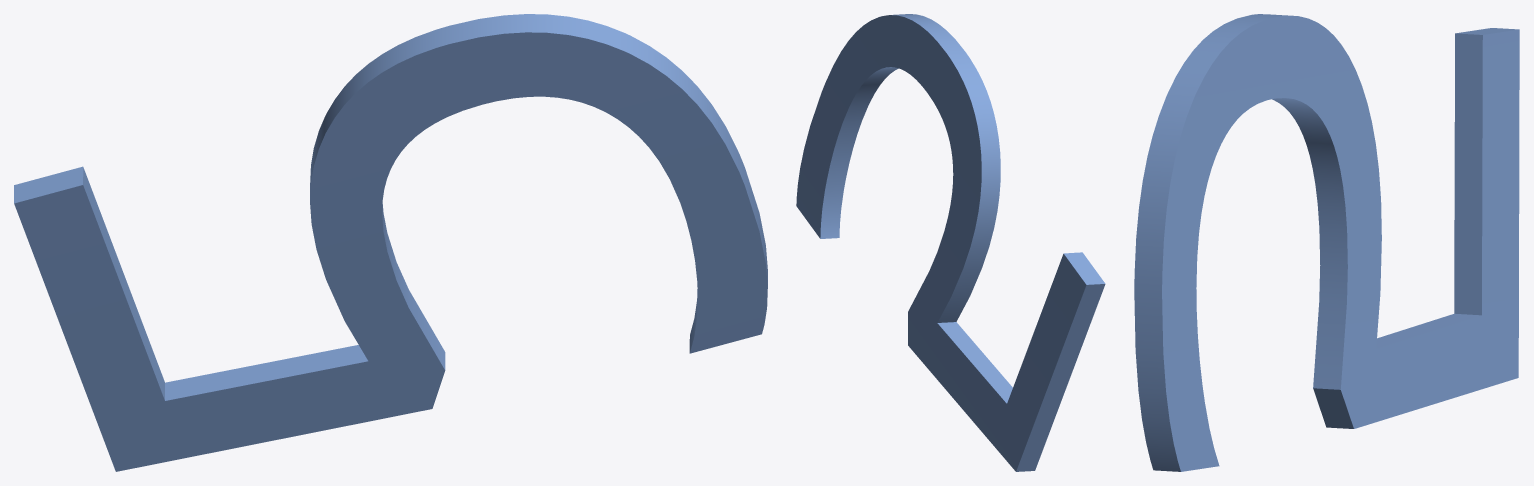
The model's file is New_Number_5.gltf.
3 renders of one model, left to right at view 1: azimuth 30°, elevation 25°; view 2: azimuth 150°, elevation 25°; view 3: azimuth 270°, elevation 25°, orthographic. The views are drawn at different scales.
Parts seen in each view (by area): view 1: Part 50; view 2: Part 50; view 3: Part 50.
Boxes of the visible parts, left/top/right/bottom form: Part 50: left=14, top=14, right=767, bottom=471; Part 50: left=796, top=14, right=1105, bottom=471; Part 50: left=1134, top=14, right=1519, bottom=471.
Size of the model in its own units: 0.00548 by 0.00419 by 0.00301.
